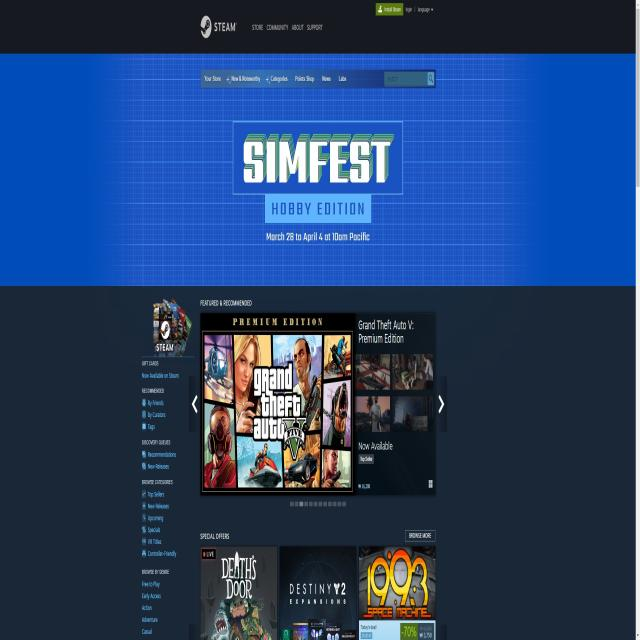menu-bar: (374, 1, 436, 20)
menu-panel: (136, 294, 198, 640)
search: (382, 69, 434, 86)
tab-bar: (195, 8, 326, 45), (200, 70, 349, 86)
